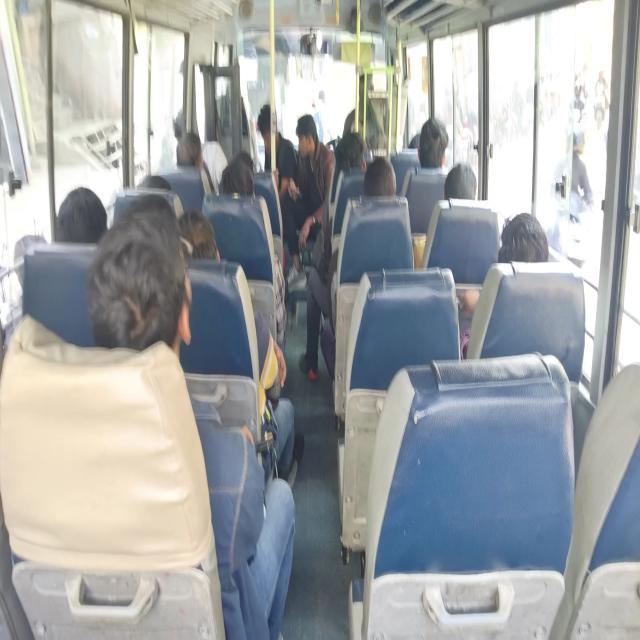person: (87, 206, 296, 638), (177, 208, 303, 487), (299, 155, 397, 381), (218, 150, 288, 354), (457, 211, 549, 358), (282, 114, 334, 281), (551, 129, 594, 222), (256, 103, 298, 197), (56, 186, 108, 243), (176, 131, 215, 195), (178, 208, 220, 261), (418, 116, 449, 169), (362, 156, 397, 196), (334, 131, 367, 171), (444, 162, 476, 199), (176, 132, 203, 170), (594, 69, 609, 129)
